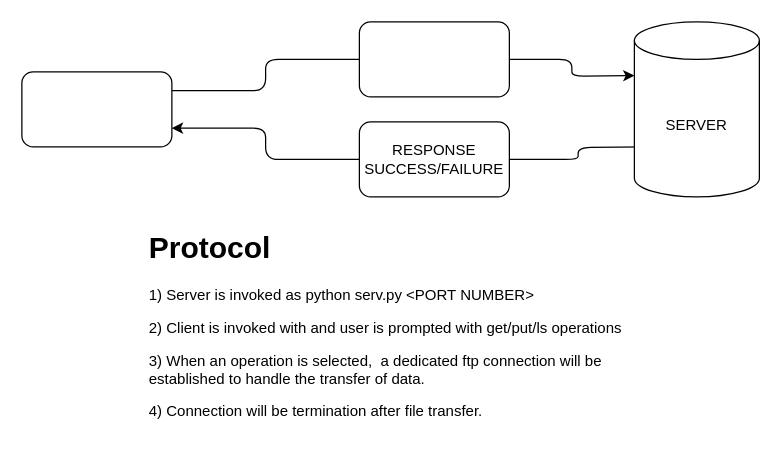
The diagram is 781 pixels wide and 473 high, and some of its shapes have lost their labels. The box of each missing label's shape, as (x1, y1, x2, y2) in pixels:
CLIENT: (21, 71, 172, 147)
CONTROL GET/PUT/LS: (358, 21, 509, 97)
